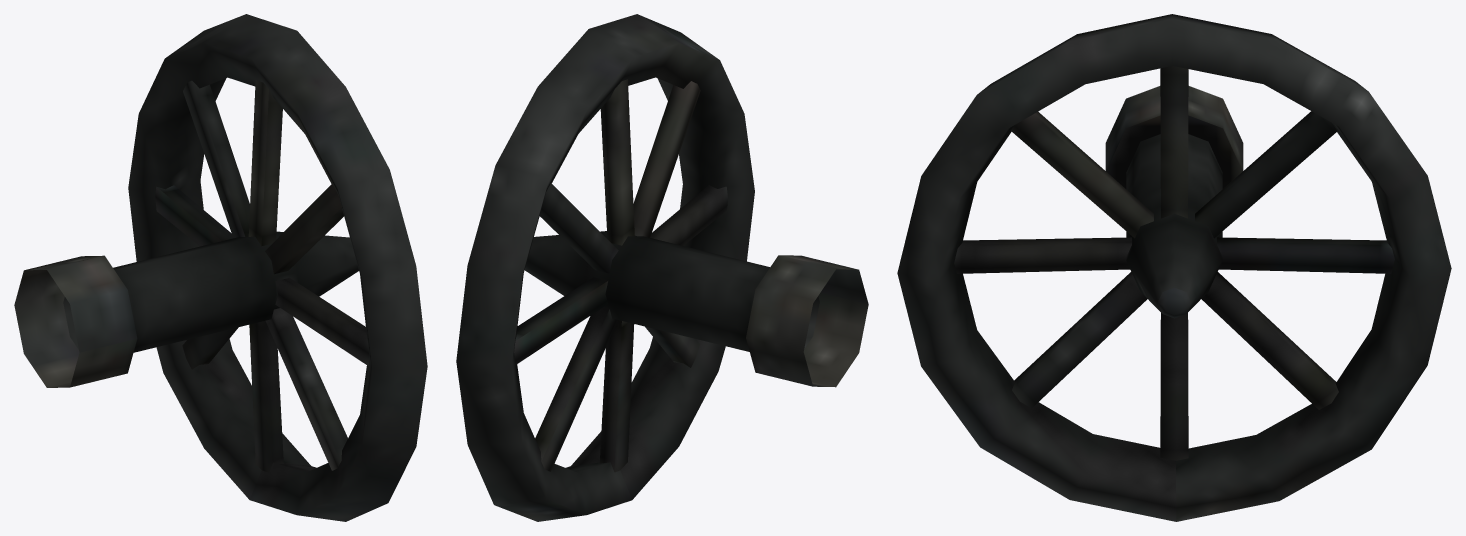
File: ThickMetal_Pipe_Valve.FBX
3 renders of one model, left to right at view 1: azimuth 30°, elevation 25°; view 2: azimuth 150°, elevation 25°; view 3: azimuth 270°, elevation 25°, orthographic. The views are drawn at different scales.
Parts seen in each view (by area): view 1: ThickMetal_Pipe_Valve; view 2: ThickMetal_Pipe_Valve; view 3: ThickMetal_Pipe_Valve.
Boxes of the visible parts, left/top/right/bottom form: ThickMetal_Pipe_Valve: left=14, top=14, right=427, bottom=521; ThickMetal_Pipe_Valve: left=456, top=14, right=868, bottom=521; ThickMetal_Pipe_Valve: left=897, top=14, right=1451, bottom=521.
Bounding box in the file's own units: 25.03 × 36.17 × 36.17.
